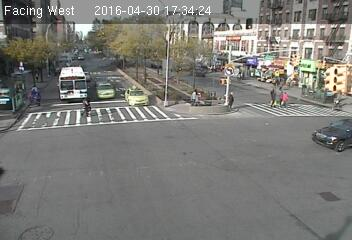neg: (144, 80, 166, 110), (39, 120, 61, 150), (132, 184, 154, 213), (270, 145, 291, 174), (305, 180, 326, 208), (248, 192, 269, 220), (287, 54, 308, 81), (70, 164, 91, 191), (123, 128, 143, 154), (237, 42, 256, 67), (181, 151, 199, 175), (35, 164, 53, 188), (46, 39, 62, 59), (193, 116, 208, 137), (190, 34, 205, 54), (121, 46, 136, 66), (219, 164, 233, 183), (91, 55, 102, 70), (246, 134, 255, 146)
pos: (78, 97, 93, 117), (264, 88, 278, 107), (29, 87, 43, 105), (190, 88, 203, 105), (280, 90, 292, 107), (227, 93, 239, 109)
